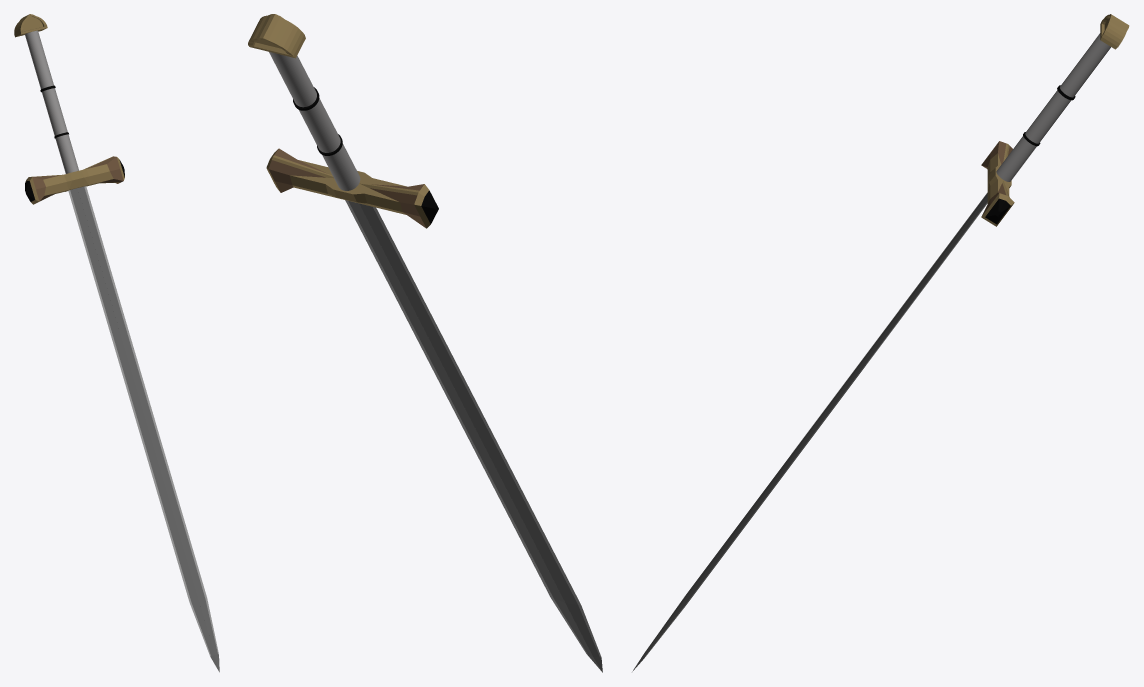
The model's file is sword.glb.
3 views of the same model, side by side, from view 1: azimuth 30°, elevation 25°; view 2: azimuth 150°, elevation 25°; view 3: azimuth 270°, elevation 25° (orthographic). The views are drawn at different scales.
Visible parts, largest first — view 1: Cylinder.007; view 2: Cylinder.007; view 3: Cylinder.007.
Part boxes in pixels (x1,y1,x2,y2): Cylinder.007: (14,14,219,672); Cylinder.007: (248,14,602,672); Cylinder.007: (632,14,1129,671).
Size of the model in its own units: 0.4085 by 2.08 by 1.43.
